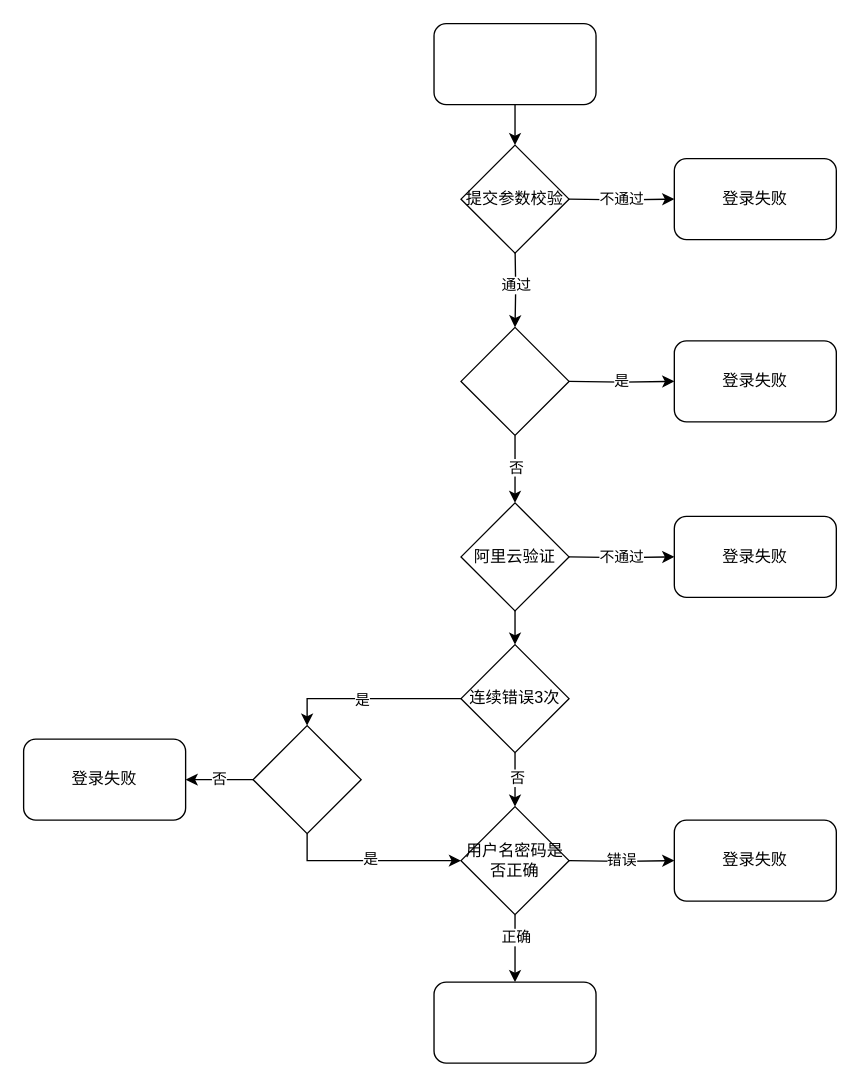
The diagram is 860 pixels wide and 1087 high, and some of its shapes have lost their labels. The shapes that lost their labels are listed below. From the top down, each one's box as (x1, y1, x2, y2) in pixels, then its label:
(433, 22, 596, 105): 用户登录
(460, 326, 569, 435): 登录用户名或ip是否黑名单
(252, 724, 361, 834): 验证码是否正确
(433, 981, 596, 1063): 登录成功
